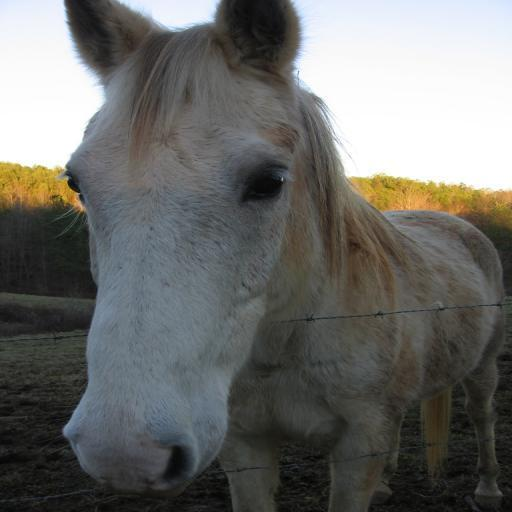horse: (48, 0, 506, 512)
